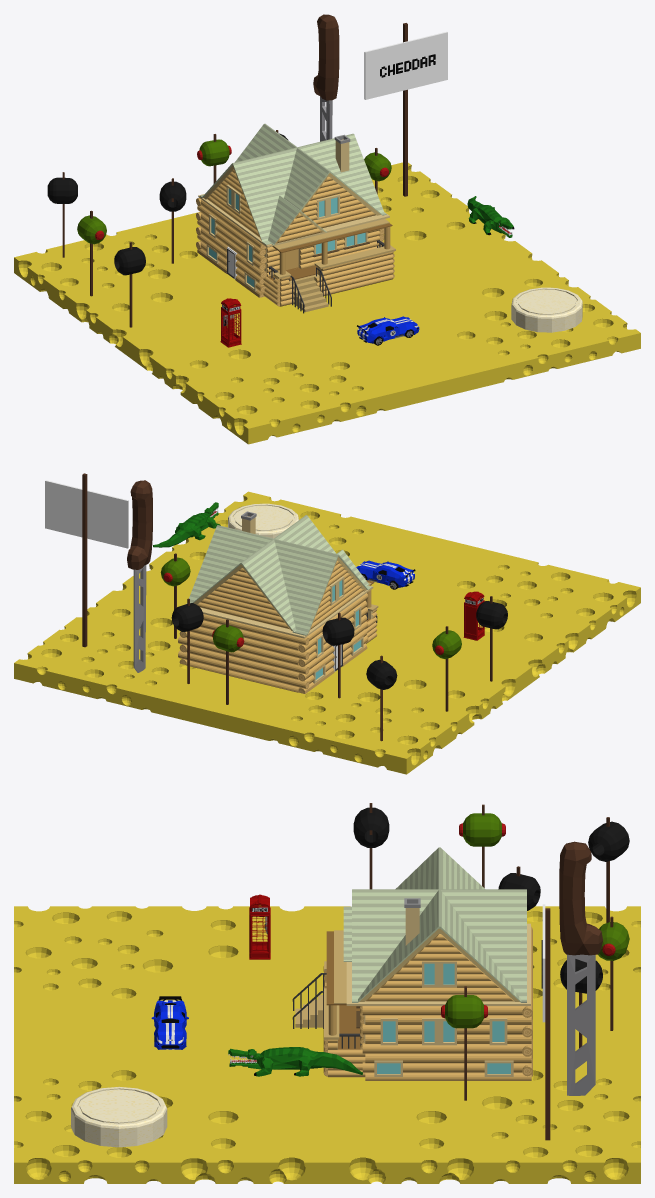
The picture shows the model from 3 angles, top to bottom: view 1: azimuth 30°, elevation 25°; view 2: azimuth 150°, elevation 25°; view 3: azimuth 270°, elevation 25°; orthographic projection. The views are drawn at different scales.
Parts seen in each view (by area): view 1: Cube.022, Cube.1516, Cube.023, Cylinder.016, Cube.024, VEHICLES_RACING_CAR, Sphere.017, ANIMAL_COCODRILO, OBJRANDOM_PHONEBOOTH, Sphere.016, Sphere.020, Sphere.018 (+2 smaller); view 2: Cube.022, Cube.1516, Cube.023, Cube.024, Cylinder.016, VEHICLES_RACING_CAR, ANIMAL_COCODRILO, Sphere.017, Sphere.020, Sphere.021, Sphere.016, Sphere.018 (+3 smaller); view 3: Cube.022, Cube.1516, Cube.024, Cylinder.016, ANIMAL_COCODRILO, Cube.023, VEHICLES_RACING_CAR, Sphere.019, Sphere.016, Sphere.018, Sphere.017, OBJRANDOM_PHONEBOOTH (+3 smaller).
Part boxes in pixels (box(x1,y1,x2,y2)): Cube.022: box(14, 162, 640, 444); Cube.1516: box(196, 123, 395, 313); Cube.023: box(364, 23, 447, 196); Cylinder.016: box(511, 287, 582, 332); Cube.024: box(313, 14, 339, 141); VEHICLES_RACING_CAR: box(357, 316, 419, 345); Sphere.017: box(114, 242, 145, 327); ANIMAL_COCODRILO: box(467, 196, 514, 237); OBJRANDOM_PHONEBOOTH: box(220, 298, 241, 347); Sphere.016: box(47, 172, 77, 257); Sphere.020: box(159, 178, 186, 263); Sphere.018: box(77, 210, 106, 296); Cube.022: box(14, 491, 640, 774); Cube.1516: box(178, 511, 378, 693); Cube.023: box(45, 473, 128, 647); Cube.024: box(127, 480, 152, 672); Cylinder.016: box(228, 503, 298, 538); VEHICLES_RACING_CAR: box(356, 560, 415, 589); ANIMAL_COCODRILO: box(153, 502, 220, 547); Sphere.017: box(476, 596, 507, 681); Sphere.020: box(322, 612, 354, 698); Sphere.021: box(171, 598, 203, 683); Sphere.016: box(366, 655, 397, 741); Sphere.018: box(432, 626, 461, 711); Cube.022: box(14, 906, 640, 1183); Cube.1516: box(292, 847, 532, 1080); Cube.024: box(559, 841, 602, 1095); Cylinder.016: box(71, 1086, 167, 1147); ANIMAL_COCODRILO: box(228, 1047, 362, 1076); Cube.023: box(541, 904, 550, 1140); VEHICLES_RACING_CAR: box(151, 996, 188, 1049); Sphere.019: box(441, 986, 487, 1100); Sphere.016: box(588, 817, 629, 922); Sphere.018: box(459, 804, 505, 887); Sphere.017: box(353, 803, 389, 889); OBJRANDOM_PHONEBOOTH: box(249, 894, 270, 959).
Bounding box in the file's own units: 3917 × 2108 × 4000.
Materials: 46 (4 with a texture image).
